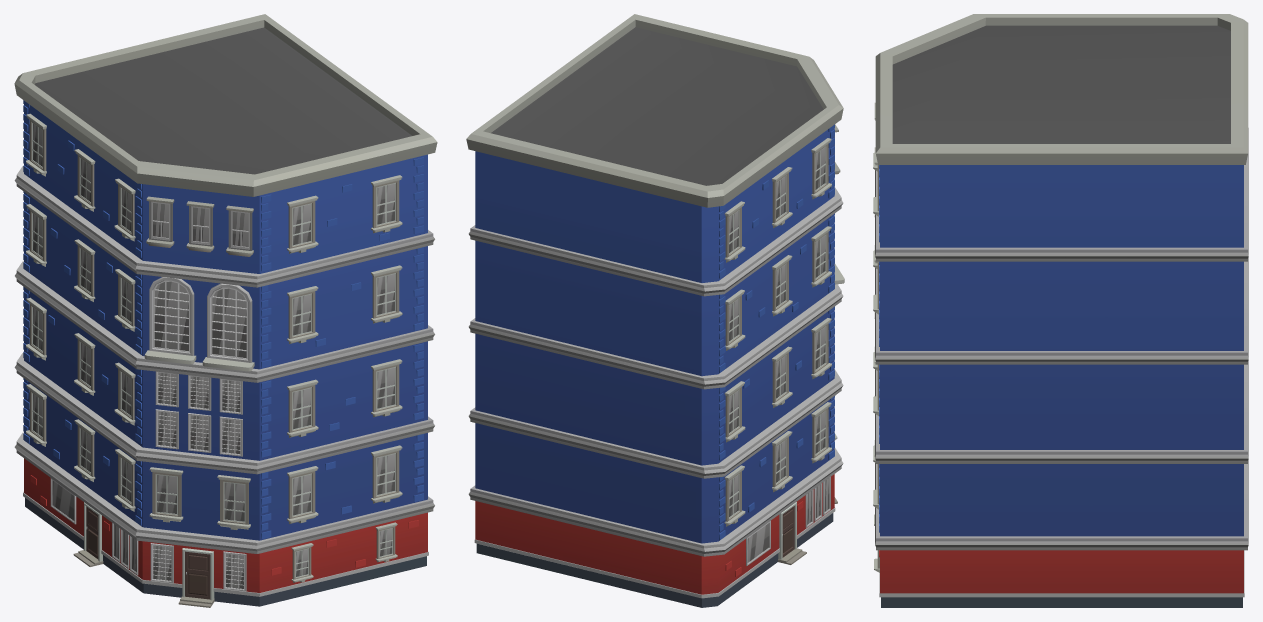
Rendered from Building_25_1_B.fbx.
3 renders of one model, left to right at view 1: azimuth 30°, elevation 25°; view 2: azimuth 150°, elevation 25°; view 3: azimuth 270°, elevation 25°, orthographic. The views are drawn at different scales.
Parts seen in each view (by area): view 1: Building_25_1_B; view 2: Building_25_1_B; view 3: Building_25_1_B.
Boxes of the visible parts, left/top/right/bottom form: Building_25_1_B: left=14, top=14, right=437, bottom=607; Building_25_1_B: left=466, top=14, right=844, bottom=607; Building_25_1_B: left=873, top=14, right=1248, bottom=607.
Bounding box in the file's own units: 1291 × 2014 × 1479.
